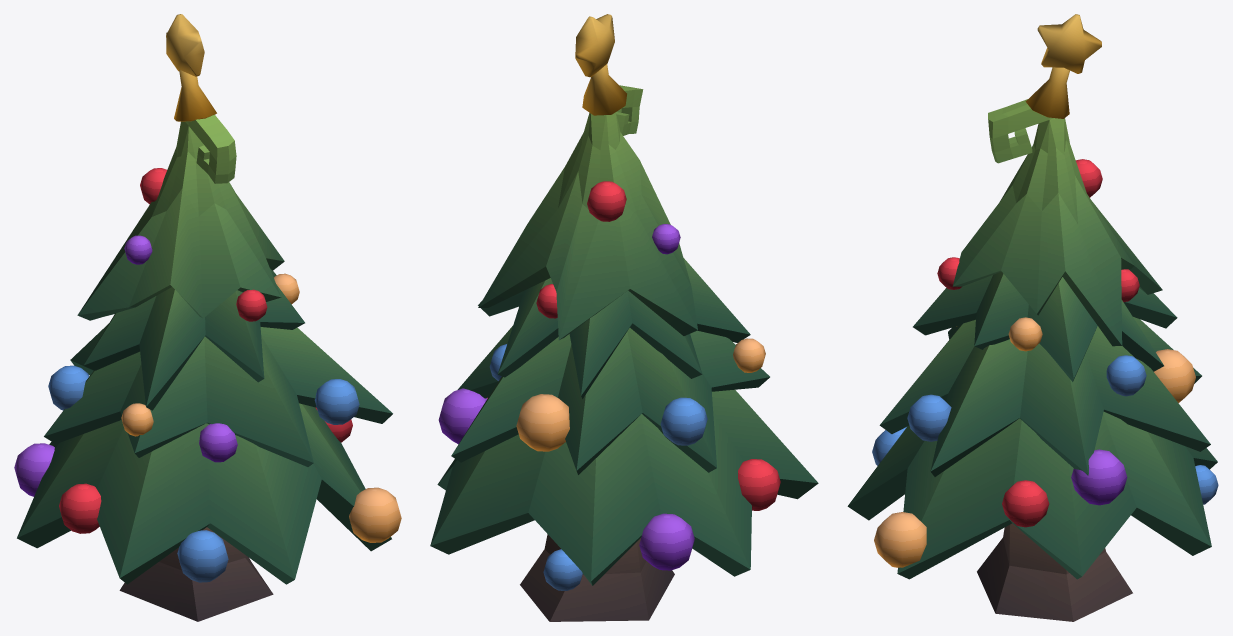
The picture shows the model from 3 angles, left to right: view 1: azimuth 30°, elevation 25°; view 2: azimuth 150°, elevation 25°; view 3: azimuth 270°, elevation 25°; orthographic projection. The views are drawn at different scales.
Visible parts, largest first — view 1: treetop.001, treetop.002, treetop.004, treetop.003, christmastree, sphere_yellow, sphere_blue.002, star, sphere_red.002, sphere_blue, sphere_purple.003, star_topper (+6 smaller); view 2: treetop.001, treetop.004, treetop.002, treetop.003, christmastree, sphere_yellow.003, sphere_purple.003, star, sphere_blue.004, sphere_red.002, sphere_purple, star_topper (+5 smaller); view 3: treetop.001, treetop.002, treetop.004, treetop.003, christmastree, star, sphere_yellow, sphere_purple, sphere_red, sphere_blue, star_topper, sphere_yellow.003 (+6 smaller).
Boxes of the visible parts, bbox=[...] form: treetop.001: bbox=[17, 403, 391, 584]; treetop.002: bbox=[44, 323, 392, 466]; treetop.004: bbox=[77, 114, 284, 320]; treetop.003: bbox=[83, 268, 304, 410]; christmastree: bbox=[119, 527, 273, 621]; sphere_yellow: bbox=[349, 487, 401, 542]; sphere_blue.002: bbox=[177, 530, 228, 582]; star: bbox=[166, 14, 204, 76]; sphere_red.002: bbox=[59, 483, 101, 533]; sphere_blue: bbox=[314, 379, 359, 424]; sphere_purple.003: bbox=[14, 443, 54, 496]; star_topper: bbox=[174, 69, 216, 121]; treetop.001: bbox=[430, 389, 818, 585]; treetop.004: bbox=[478, 85, 697, 339]; treetop.002: bbox=[451, 326, 769, 474]; treetop.003: bbox=[478, 258, 750, 398]; christmastree: bbox=[520, 534, 674, 621]; sphere_yellow.003: bbox=[516, 394, 569, 451]; sphere_purple.003: bbox=[639, 513, 694, 570]; star: bbox=[575, 14, 614, 77]; sphere_blue.004: bbox=[660, 397, 707, 445]; sphere_red.002: bbox=[738, 459, 780, 510]; sphere_purple: bbox=[438, 388, 487, 444]; star_topper: bbox=[582, 64, 626, 115]; treetop.001: bbox=[847, 411, 1217, 579]; treetop.002: bbox=[879, 317, 1210, 476]; treetop.004: bbox=[952, 99, 1162, 346]; treetop.003: bbox=[913, 271, 1177, 381]; christmastree: bbox=[977, 523, 1132, 621]; star: bbox=[1037, 14, 1101, 73]; sphere_yellow: bbox=[874, 512, 926, 567]; sphere_purple: bbox=[1071, 449, 1127, 505]; sphere_red: bbox=[1002, 480, 1049, 527]; sphere_blue: bbox=[907, 394, 951, 441]; star_topper: bbox=[1025, 67, 1069, 118]; sphere_yellow.003: bbox=[1154, 349, 1195, 402].
Bounding box in the file's own units: 6.75 × 11.96 × 7.03.
Materials: 1 (1 with a texture image).
